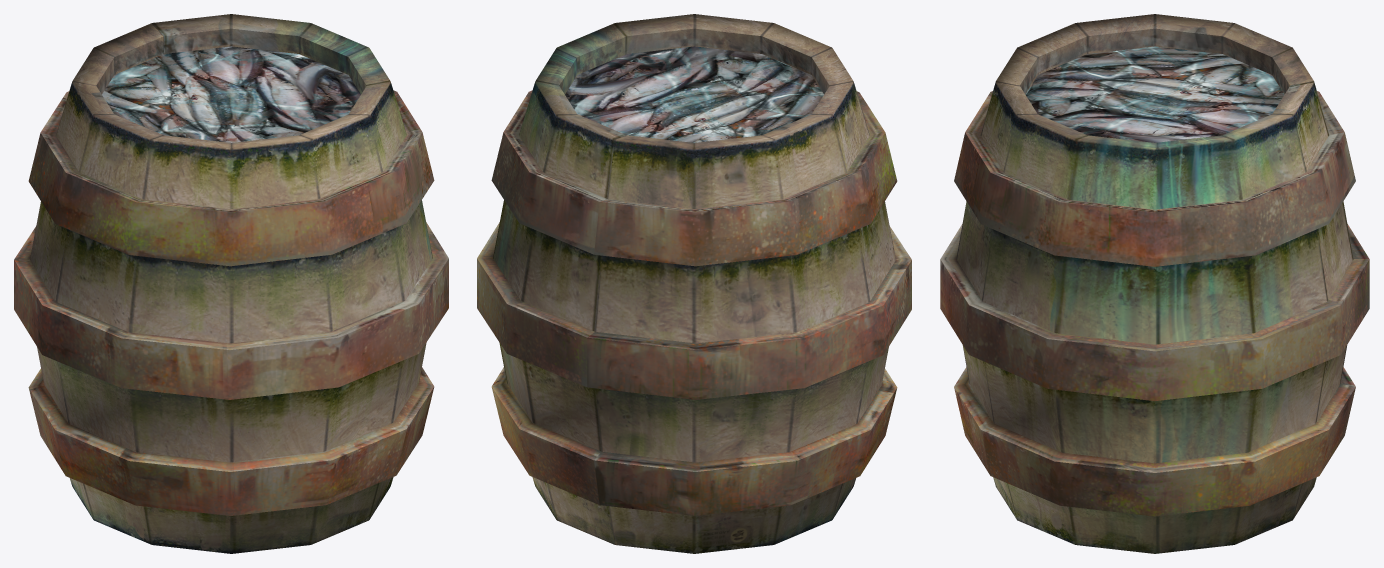
The model's file is fishbarrel.glb.
The picture shows the model from 3 angles, left to right: view 1: azimuth 30°, elevation 25°; view 2: azimuth 150°, elevation 25°; view 3: azimuth 270°, elevation 25°; orthographic projection.
Parts seen in each view (by area): view 1: pCylinder1; view 2: pCylinder1; view 3: pCylinder1.
Boxes of the visible parts, box(x1,y1,x2,y2) form: pCylinder1: box(14, 14, 448, 553); pCylinder1: box(477, 14, 911, 553); pCylinder1: box(940, 14, 1369, 553).
Bounding box in the file's own units: 28.39 × 29.07 × 27.89.
Materials: 1 (1 with a texture image).
